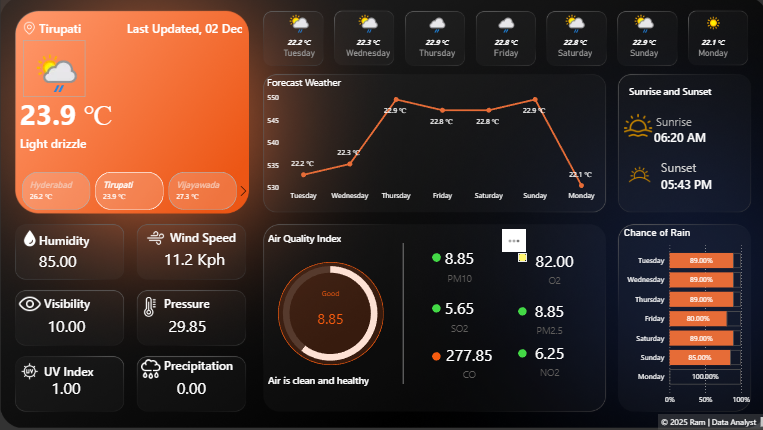

What the dashboard file says about the page in this screenshot:
{"tool":"powerbi","page":{"name":"Page 1","canvas":[1280,720],"ordinal":0},"visuals":[{"type":"donutChart","fields":{"Y":["Sum(CurrentTable.current.air_quality.pm10)","_Measures.Left_value_PM10"]},"box":[446.7,399.7,207.2,251.3],"z":0},{"type":"shape","box":[462.9,439.3,176.3,171.9],"z":1000},{"type":"advancedSlicerVisual","fields":{"Values":["Locations.location.name"]},"box":[11.8,285.6,409.9,73.9],"z":2000},{"type":"shape","box":[33.8,143.8,228.8,98.8],"z":3000},{"type":"shape","box":[33.8,225,158.8,33.8],"z":4000},{"type":"shape","box":[65,36.2,143.8,27.5],"z":5000},{"type":"shape","box":[211.6,32.3,213.1,36.7],"z":6000},{"type":"image","box":[33.8,31.2,31.2,37.5],"z":7000},{"type":"cardVisual","fields":{"Data":["Min(CurrentTable.current.condition.icon)"]},"box":[33.8,64.7,114.6,105.8],"z":8000},{"type":"image","box":[18.8,483.8,62.5,52.5],"z":9000},{"type":"shape","box":[72.5,493.8,111.2,31.2],"z":10000},{"type":"image","box":[26.2,381.2,46.2,37.5],"z":11000},{"type":"shape","box":[65,387.5,111.2,31.2],"z":12000},{"type":"image","box":[232.5,380,51.2,40],"z":13000},{"type":"shape","box":[283.8,383.8,111.2,31.2],"z":14000},{"type":"image","box":[228.8,493.8,43.8,42.5],"z":15000},{"type":"shape","box":[272.5,493.8,111.2,31.2],"z":16000},{"type":"image","box":[30,601.2,38.8,41.2],"z":17000},{"type":"shape","box":[72.5,606.2,111.2,31.2],"z":18000},{"type":"image","box":[223.8,592.5,55,50],"z":19000},{"type":"shape","box":[272.5,592.5,122.5,36.2],"z":20000},{"type":"card","fields":{"Values":["Avg(CurrentTable.current.humidity)"]},"box":[30,415,132.5,47.5],"z":21000},{"type":"card","fields":{"Values":["_Measures.Wind_Speed"]},"box":[262.5,416.2,121.2,37.5],"z":22000},{"type":"card","fields":{"Values":["Avg(CurrentTable.current.pressure_in)"]},"box":[251.2,525,121.2,43.8],"z":23000},{"type":"card","fields":{"Values":["Avg(CurrentTable.current.precip_in)"]},"box":[258.8,628.8,121.2,43.8],"z":24000},{"type":"card","fields":{"Values":["Avg(CurrentTable.current.vis_km)"]},"box":[50,525,121.2,43.8],"z":25000},{"type":"card","fields":{"Values":["Avg(CurrentTable.current.uv)"]},"box":[65,628.8,90,43.8],"z":26000},{"type":"lineChart","title":"Forecast Weather","fields":{"Y":["Sum(Day_Forecast.forecast.forecastday.day.avgtemp_c)"],"Category":["Day_Forecast.Day_Name"]},"box":[440,130,565,216.7],"z":27000},{"type":"advancedSlicerVisual","fields":{"Values":["Day_Forecast.Day_Name"]},"box":[439.3,16.2,809.6,92.6],"z":28000},{"type":"shape","box":[1048.3,143.3,206.7,25],"z":29000},{"type":"shape","box":[1090,211.7,176.7,38.3],"z":30000},{"type":"shape","box":[1101.7,285,100,50],"z":31000},{"type":"shape","box":[1101.7,258.3,80,46.7],"z":32000},{"type":"shape","box":[1093.3,186.7,100,38.3],"z":33000},{"type":"image","box":[1035,181.7,56.7,60],"z":34000},{"type":"image","box":[1035,265,61.7,58.3],"z":35000},{"type":"hundredPercentStackedBarChart","title":"Chance of Rain","fields":{"Y":["Avg(Day_Forecast.forecast.forecastday.day.daily_chance_of_rain)","CurrentTable.Left_value_Rain"],"Category":["Day_Forecast.Day_Name"]},"box":[1035,380,220,306.7],"z":36000},{"type":"shape","box":[446.7,387.9,207.2,23.5],"z":37000},{"type":"card","fields":{"Values":["Avg(CurrentTable.current.air_quality.pm10)"]},"box":[704.7,408.5,121.6,73.3],"z":38000},{"type":"card","fields":{"Values":["Avg(CurrentTable.current.air_quality.o3)"]},"box":[864,414.4,122,67.6],"z":39000},{"type":"card","fields":{"Values":["Avg(CurrentTable.current.air_quality.so2)"]},"box":[704.7,492.7,121.6,70.2],"z":40000},{"type":"card","fields":{"Values":["Avg(CurrentTable.current.air_quality.pm2_5)"]},"box":[854.4,489.5,121.6,85.7],"z":41000},{"type":"card","fields":{"Values":["Avg(CurrentTable.current.air_quality.co)"]},"box":[736.2,568.7,91.1,74.9],"z":42000},{"type":"card","fields":{"Values":["Avg(CurrentTable.current.air_quality.no2)"]},"box":[861.1,568.7,108.7,69.1],"z":43000},{"type":"shape","box":[720,424.7,15,15],"z":44000},{"type":"shape","box":[720,509.9,14.7,14.7],"z":45000},{"type":"shape","box":[720,589.2,14.7,14.7],"z":46000},{"type":"shape","box":[864,424.7,14.7,14.7],"z":47000},{"type":"shape","box":[864,514.3,14.7,14.7],"z":48000},{"type":"shape","box":[864,584.8,14.7,14.7],"z":49000},{"type":"shape","box":[637.7,408.5,67.6,235.1],"z":50000},{"type":"card","fields":{"Values":["Avg(CurrentTable.current.air_quality.pm10)"]},"box":[489.3,483.4,122,86.7],"z":51000},{"type":"shape","box":[446.7,606.9,214.5,61.7],"z":51001},{"type":"textbox","box":[1096.2,693.6,183.7,26.4],"z":51002}]}

Visuals, with their boxes in screenshot pixels (x1, y1, x2, y2), scaled from the page's 1280x720 canvas onto the 763x430 screenshot:
donutChart - Sum(CurrentTable.current.air_quality.pm10) x _Measures.Left_value_PM10: crop(266, 239, 390, 389)
shape: crop(276, 262, 381, 365)
advancedSlicerVisual - Locations.location.name: crop(7, 171, 251, 215)
shape: crop(20, 86, 157, 145)
shape: crop(20, 134, 115, 155)
shape: crop(39, 22, 124, 38)
shape: crop(126, 19, 253, 41)
image: crop(20, 19, 39, 41)
cardVisual - Min(CurrentTable.current.condition.icon): crop(20, 39, 88, 102)
image: crop(11, 289, 48, 320)
shape: crop(43, 295, 110, 314)
image: crop(16, 228, 43, 250)
shape: crop(39, 231, 105, 250)
image: crop(139, 227, 169, 251)
shape: crop(169, 229, 235, 248)
image: crop(136, 295, 162, 320)
shape: crop(162, 295, 229, 314)
image: crop(18, 359, 41, 384)
shape: crop(43, 362, 110, 381)
image: crop(133, 354, 166, 384)
shape: crop(162, 354, 235, 375)
card - Avg(CurrentTable.current.humidity): crop(18, 248, 97, 276)
card - _Measures.Wind_Speed: crop(156, 249, 229, 271)
card - Avg(CurrentTable.current.pressure_in): crop(150, 314, 222, 340)
card - Avg(CurrentTable.current.precip_in): crop(154, 376, 227, 402)
card - Avg(CurrentTable.current.vis_km): crop(30, 314, 102, 340)
card - Avg(CurrentTable.current.uv): crop(39, 376, 92, 402)
"Forecast Weather" lineChart: crop(262, 78, 599, 207)
advancedSlicerVisual - Day_Forecast.Day_Name: crop(262, 10, 744, 65)
shape: crop(625, 86, 748, 101)
shape: crop(650, 126, 755, 149)
shape: crop(657, 170, 716, 200)
shape: crop(657, 154, 704, 182)
shape: crop(652, 112, 711, 134)
image: crop(617, 109, 651, 144)
image: crop(617, 158, 654, 193)
"Chance of Rain" hundredPercentStackedBarChart: crop(617, 227, 748, 410)
shape: crop(266, 232, 390, 246)
card - Avg(CurrentTable.current.air_quality.pm10): crop(420, 244, 493, 288)
card - Avg(CurrentTable.current.air_quality.o3): crop(515, 247, 588, 288)
card - Avg(CurrentTable.current.air_quality.so2): crop(420, 294, 493, 336)
card - Avg(CurrentTable.current.air_quality.pm2_5): crop(509, 292, 582, 344)
card - Avg(CurrentTable.current.air_quality.co): crop(439, 340, 493, 384)
card - Avg(CurrentTable.current.air_quality.no2): crop(513, 340, 578, 381)
shape: crop(429, 254, 438, 263)
shape: crop(429, 305, 438, 313)
shape: crop(429, 352, 438, 361)
shape: crop(515, 254, 524, 262)
shape: crop(515, 307, 524, 316)
shape: crop(515, 349, 524, 358)
shape: crop(380, 244, 420, 384)
card - Avg(CurrentTable.current.air_quality.pm10): crop(292, 289, 364, 340)
shape: crop(266, 362, 394, 399)
textbox: crop(653, 414, 762, 429)
